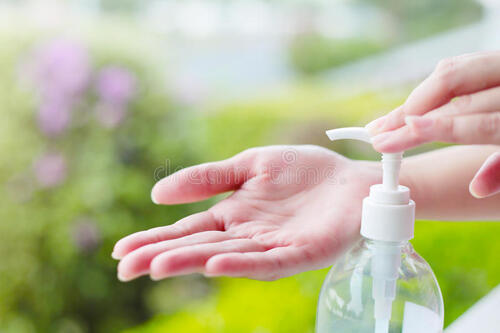sanitizer: (324, 124, 445, 333)
